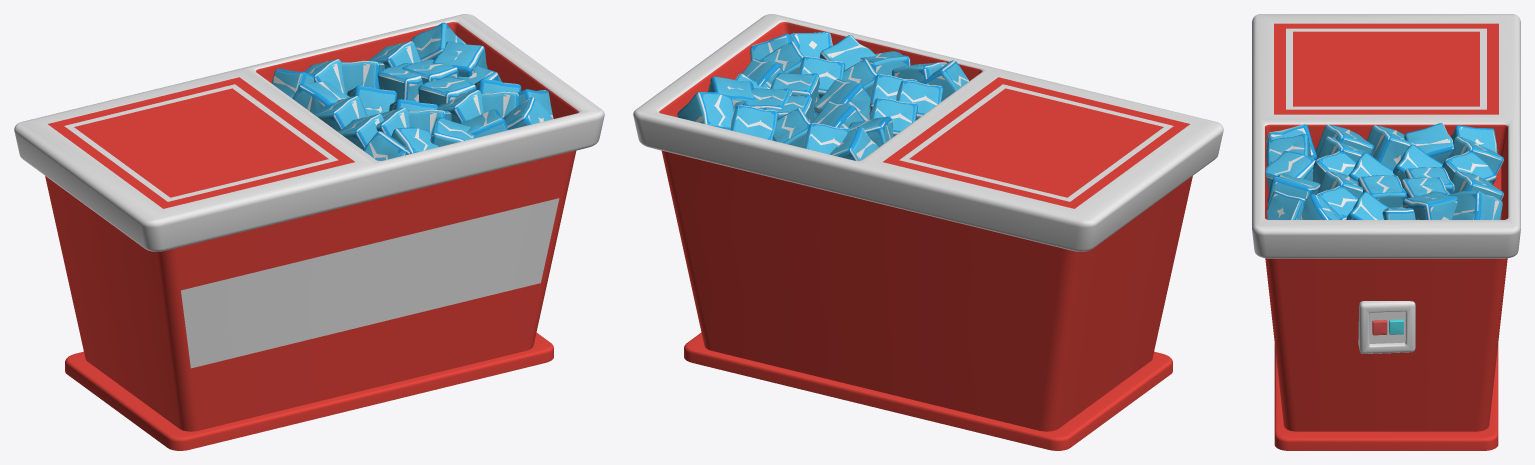
Rendered from buzMakinasi.fbx.
3 views of the same model, side by side, from view 1: azimuth 30°, elevation 25°; view 2: azimuth 150°, elevation 25°; view 3: azimuth 270°, elevation 25° (orthographic). The views are drawn at different scales.
Visible parts, largest first — view 1: buzMakimasi, buz; view 2: buzMakimasi, buz; view 3: buzMakimasi, buz.
Part boxes in pixels (x1=…): buzMakimasi: x1=14, y1=14, x2=604, y2=450; buz: x1=271, y1=22, x2=553, y2=160; buzMakimasi: x1=633, y1=14, x2=1223, y2=450; buz: x1=677, y1=32, x2=969, y2=160; buzMakimasi: x1=1252, y1=14, x2=1520, y2=450; buz: x1=1265, y1=123, x2=1503, y2=219.
Size of the model in its own units: 411 by 223 by 214.
